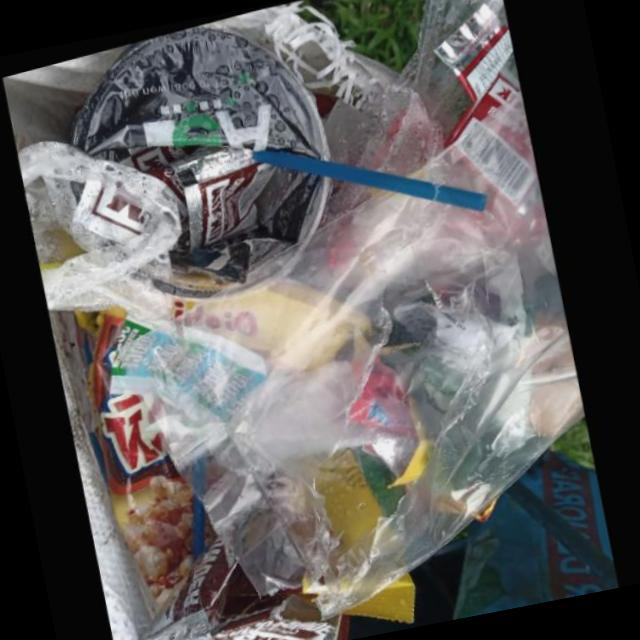bao_bi_thuc_pham: (94, 306, 205, 591), (136, 528, 334, 640), (438, 0, 526, 142), (192, 161, 279, 251)
ong_hut_nhua: (257, 139, 491, 209)
tui_ni_long: (122, 87, 586, 616)
